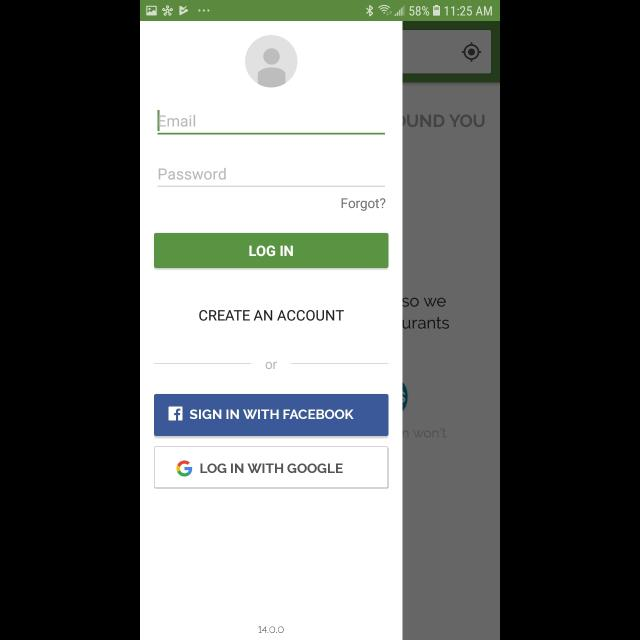icon: (246, 36, 298, 88)
input: (158, 110, 384, 136), (158, 168, 386, 188)
panel: (141, 21, 403, 640)
text: (200, 310, 344, 322), (160, 168, 227, 180), (342, 198, 386, 212), (158, 115, 196, 127), (259, 626, 285, 634), (266, 361, 278, 369)
textbutton: (154, 447, 390, 489), (155, 394, 389, 436), (154, 234, 390, 268)
uppertaskbar: (140, 1, 500, 21)
